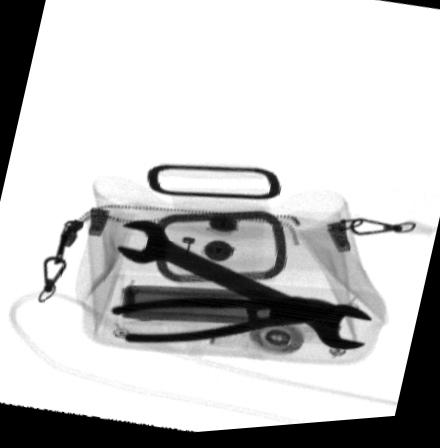Pliers: (105, 300, 340, 347)
Wrench: (117, 223, 373, 358)
